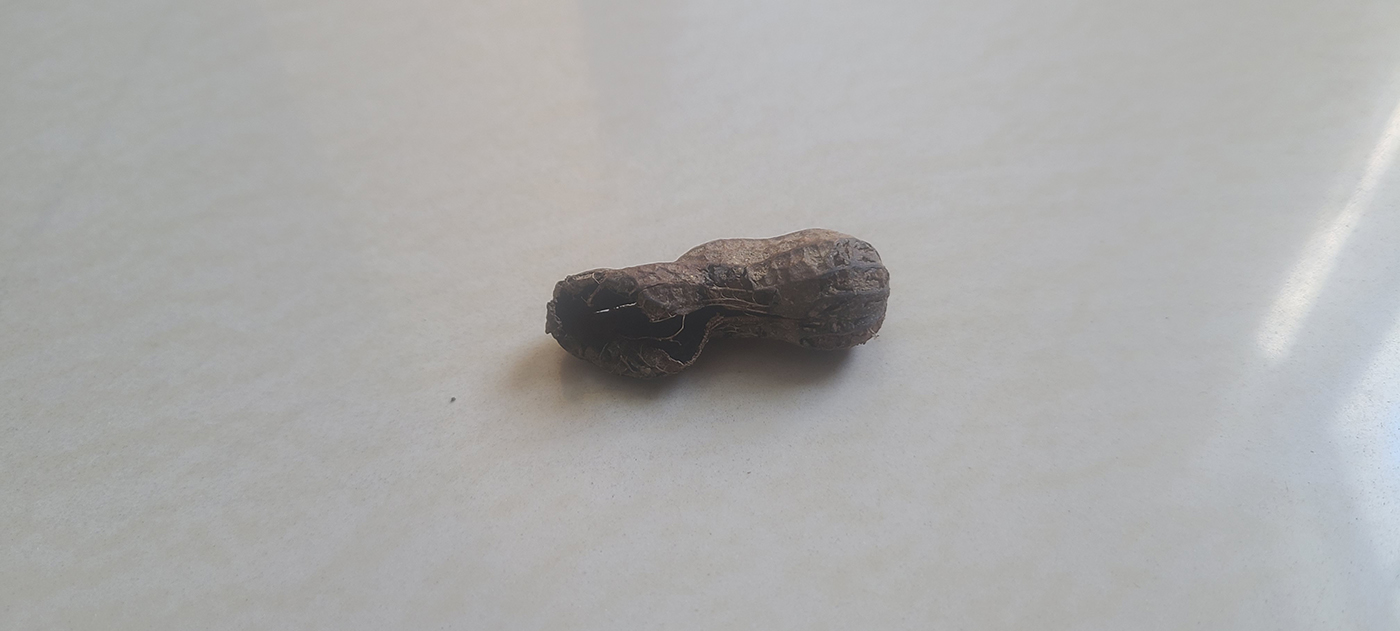l: (544, 229, 893, 379)
